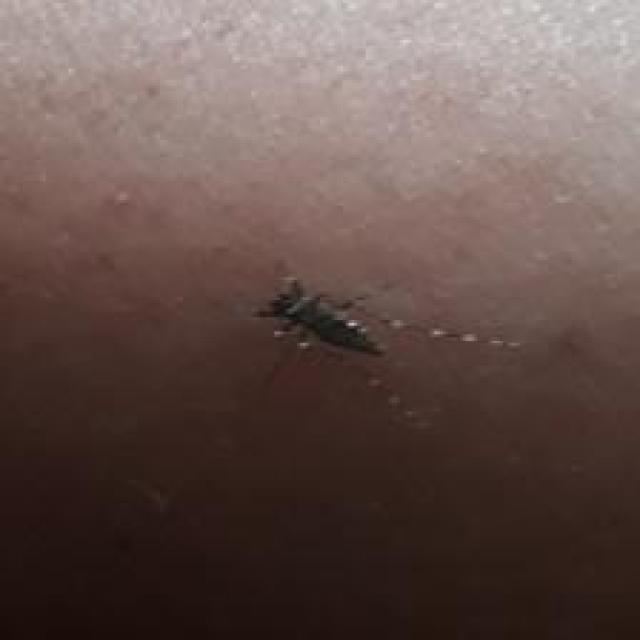Aedes albopictus: (251, 273, 386, 361)
